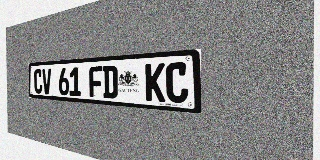1: (69, 67, 81, 96)
6: (59, 68, 69, 96)
C: (166, 62, 188, 104), (34, 69, 42, 94)
D: (103, 65, 118, 99)
F: (89, 66, 103, 98)
K: (145, 63, 165, 102)
V: (42, 69, 51, 94)
